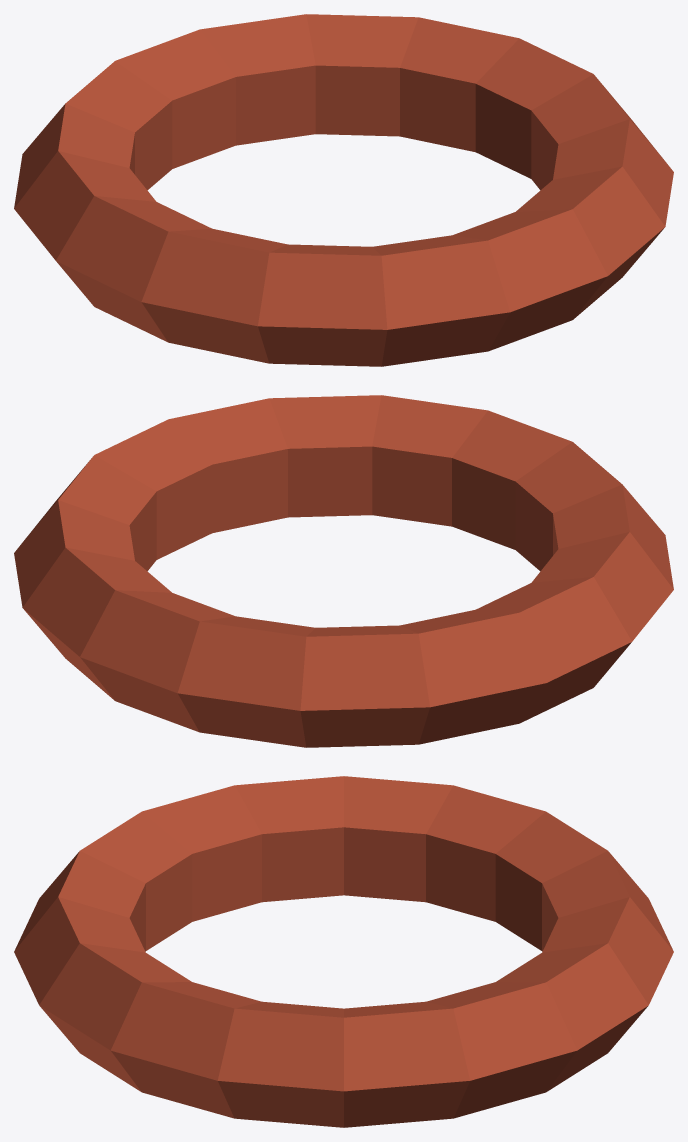
Rendered from set_lifebuoy_small.glb.
The picture shows the model from 3 angles, top to bottom: view 1: azimuth 30°, elevation 25°; view 2: azimuth 150°, elevation 25°; view 3: azimuth 270°, elevation 25°; orthographic projection.
Parts seen in each view (by area): view 1: set_lifebuoy_small; view 2: set_lifebuoy_small; view 3: set_lifebuoy_small.
Part boxes in pixels (x1,y1,x2,y2): set_lifebuoy_small: [14, 14, 673, 366]; set_lifebuoy_small: [14, 395, 673, 747]; set_lifebuoy_small: [14, 776, 673, 1127].
Bounding box in the file's own units: 0.248 × 0.0457 × 0.248.
